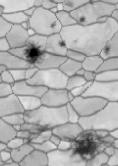good_void: (70, 126, 106, 166), (21, 41, 48, 66), (27, 120, 56, 143), (14, 105, 35, 120), (57, 39, 67, 49), (71, 37, 80, 47), (104, 44, 111, 56), (76, 16, 86, 24), (49, 22, 57, 30), (86, 0, 96, 6)
